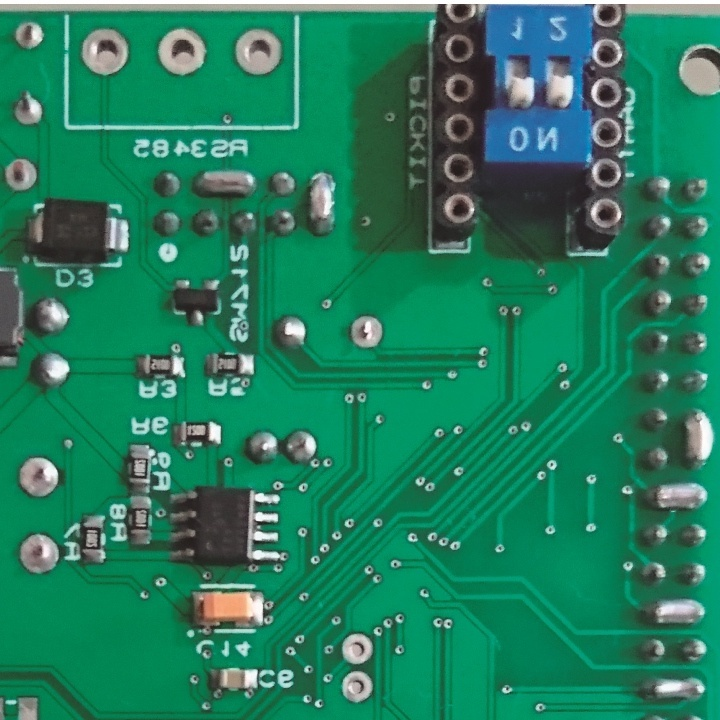F: (230, 24, 287, 80), (154, 23, 210, 78), (77, 26, 133, 79), (15, 452, 63, 499), (17, 531, 63, 578), (2, 155, 42, 194), (12, 86, 46, 129), (347, 312, 385, 349), (339, 669, 376, 706), (340, 630, 376, 668), (14, 18, 47, 53)
P: (304, 169, 340, 238), (638, 594, 708, 629), (190, 166, 260, 200), (681, 404, 716, 472), (640, 481, 710, 514), (638, 675, 709, 707)
